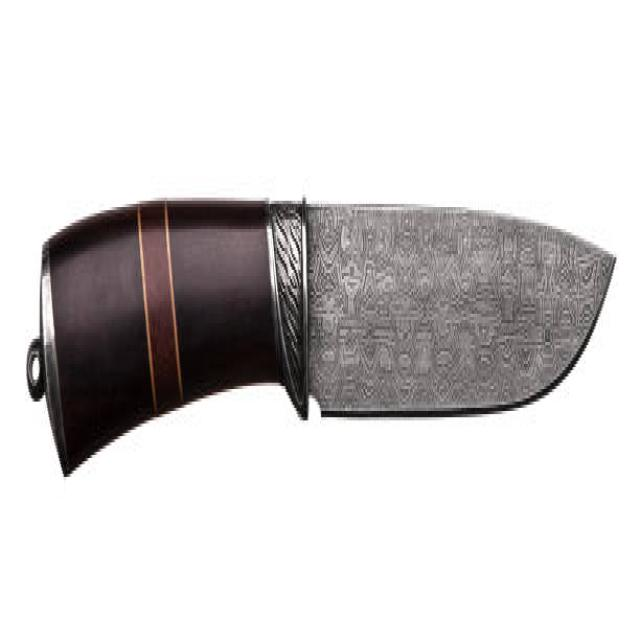knife: (22, 169, 621, 473)
